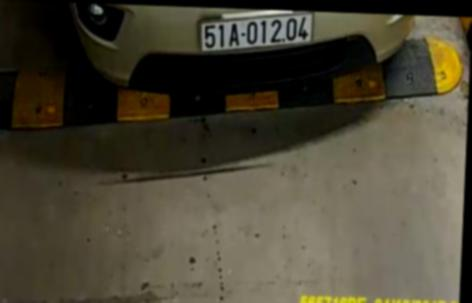License_Plate: (194, 9, 320, 58)
